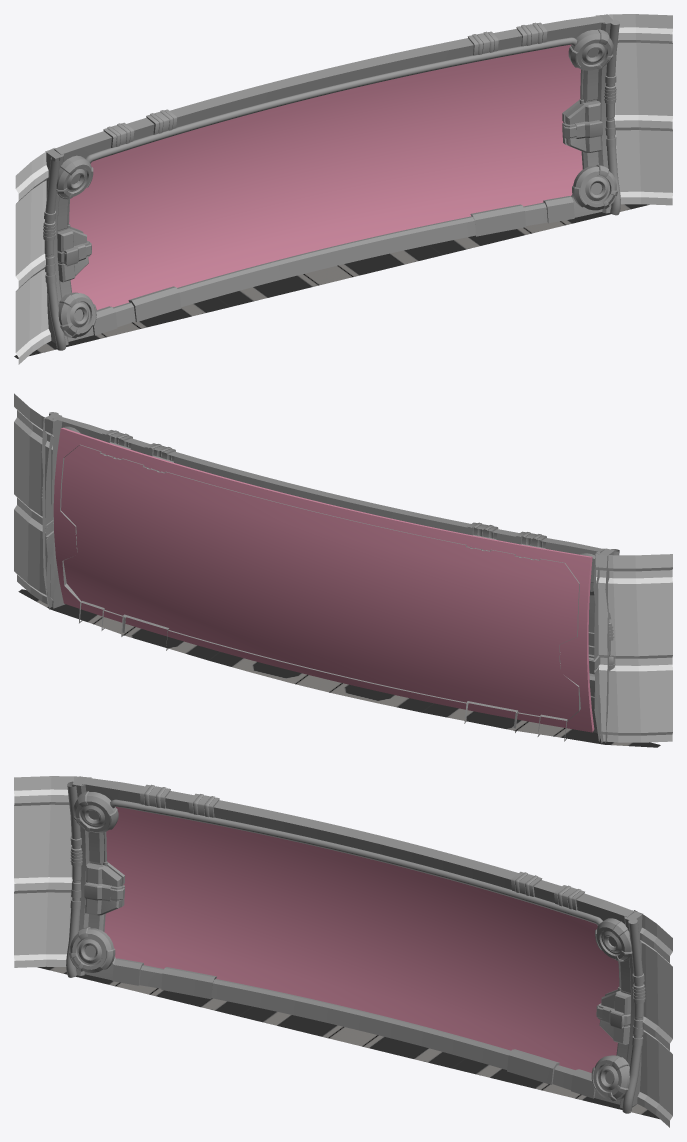
The model's file is window_Low_Complete.FBX.
3 renders of one model, top to bottom at view 1: azimuth 30°, elevation 25°; view 2: azimuth 150°, elevation 25°; view 3: azimuth 330°, elevation 25°, orthographic.
Visible parts, largest first — view 1: Ventana baja, Object001, Object002; view 2: Ventana baja, Object001, Object002; view 3: Ventana baja, Object001, Object002.
Boxes of the visible parts, x1=… form: Ventana baja: x1=43, y1=14, x2=620, y2=350; Object001: x1=15, y1=14, x2=672, y2=364; Object002: x1=14, y1=204, x2=649, y2=358; Ventana baja: x1=41, y1=412, x2=619, y2=742; Object001: x1=14, y1=393, x2=672, y2=742; Object002: x1=18, y1=589, x2=660, y2=747; Ventana baja: x1=66, y1=776, x2=645, y2=1113; Object001: x1=14, y1=776, x2=672, y2=1127; Object002: x1=37, y1=966, x2=659, y2=1119.
Bounding box in the file's own units: 1093 × 313 × 106.
